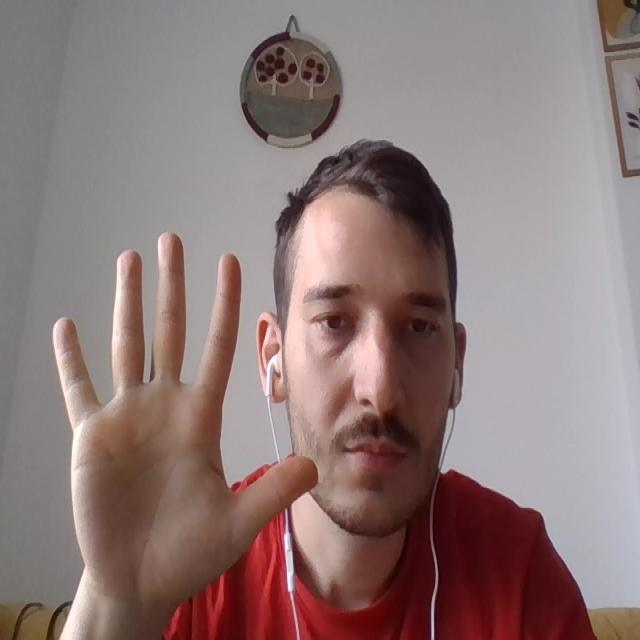hello: (57, 227, 297, 604)
